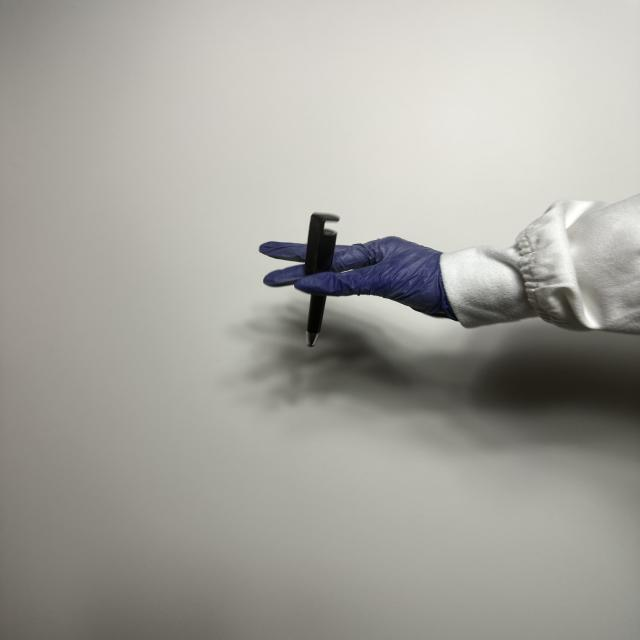gloves_contaminated: (260, 237, 455, 318)
